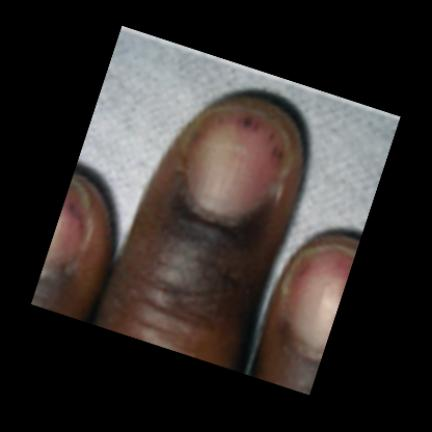Nail: (185, 105, 290, 217), (289, 245, 356, 359), (45, 184, 86, 264)
